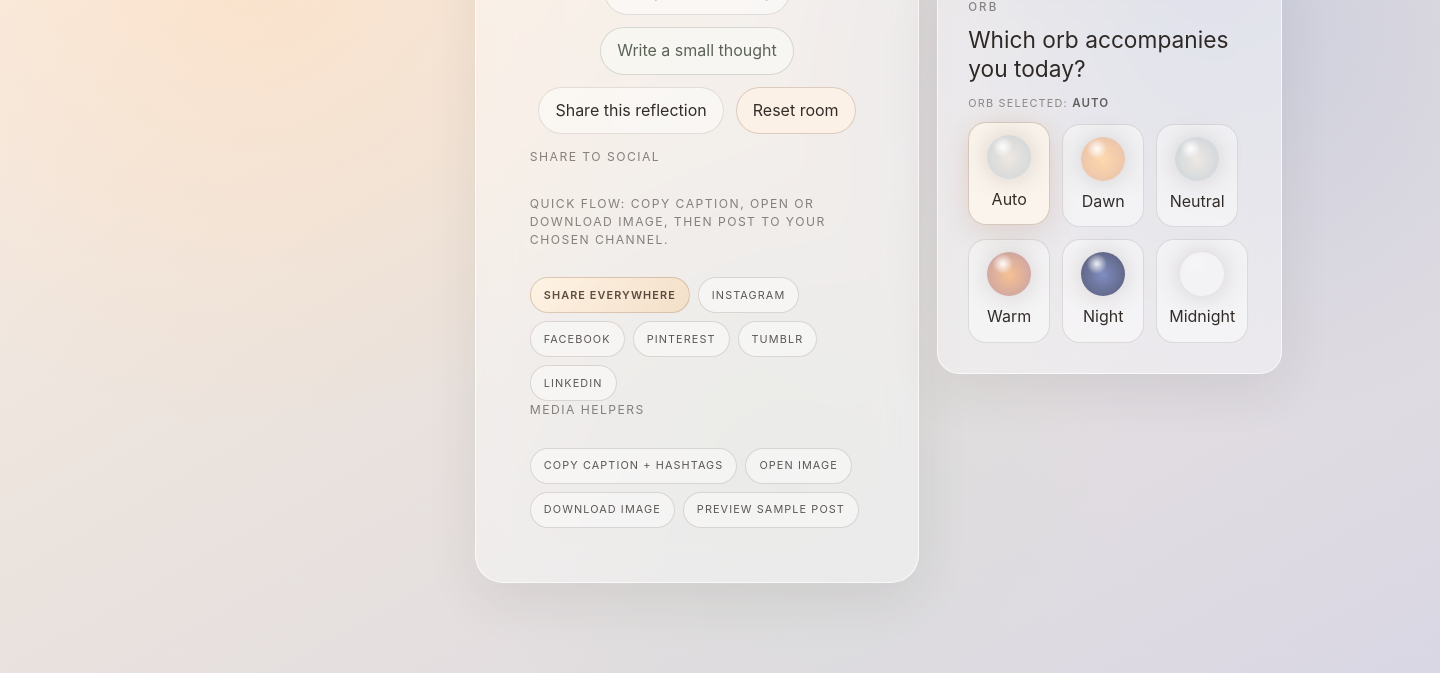
Test: Quiet Room › shows sample post preview when requested
(page scrolled)
Click the button "Preview Sample Post": (771, 510) [683,492,859,528]
(page scrolled)
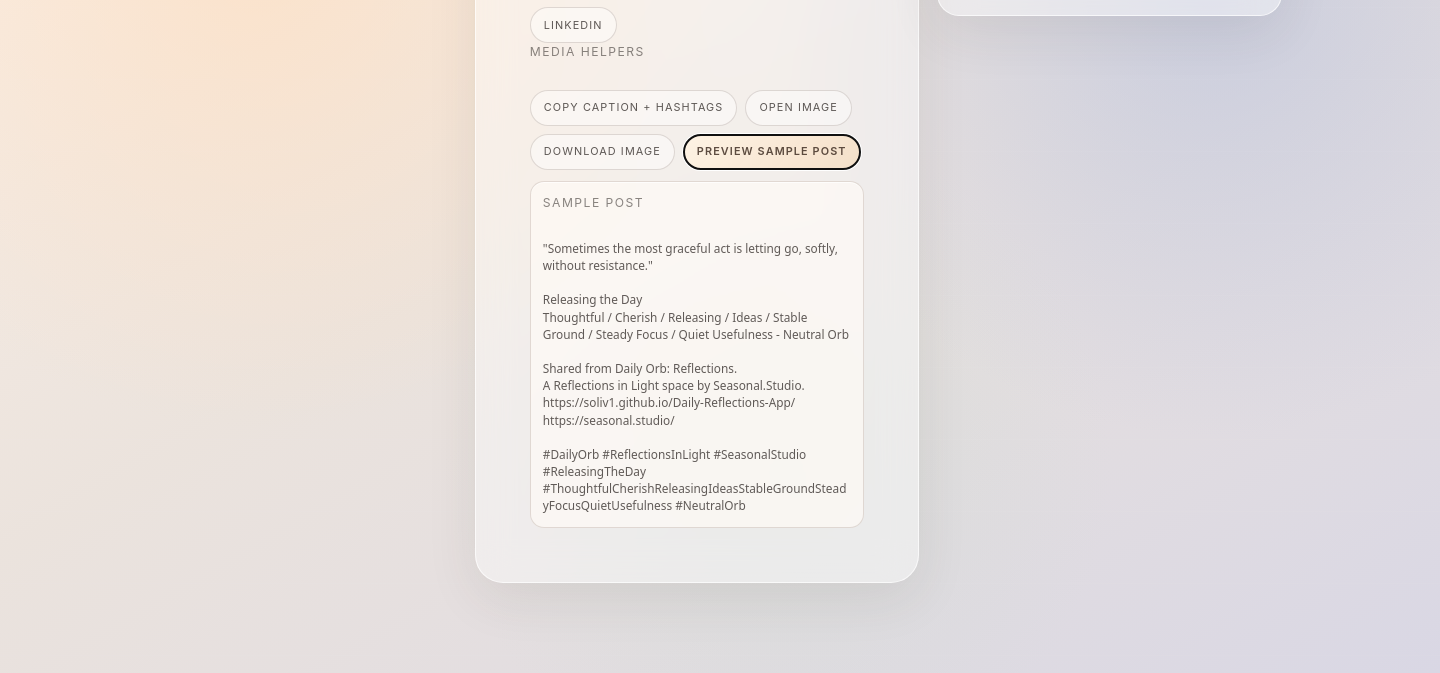
Now the text "Sample post" is shown, box [543,195,644,210]
Now the text "#dailyorb" is shown, box [543,240,849,513]
